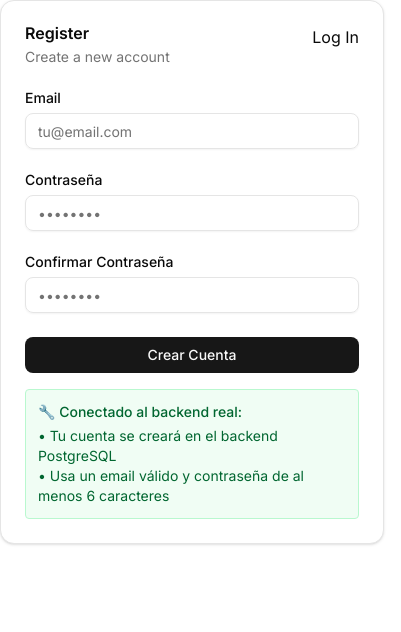
RegisterCard › shows validation error when passwords do not match
Type "test@example.com" into the field labelled "Email" at coordinates (192, 131), box [25,113,359,149]
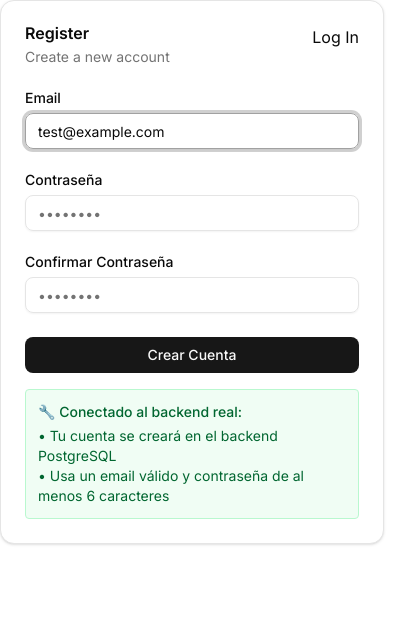
Type "password123" into the password field labelled "Contraseña" at coordinates (192, 213), box [25,195,359,231]
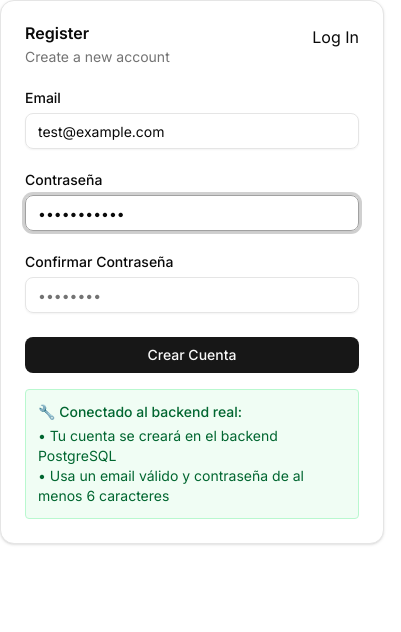
Type "different123" into the password field labelled "Confirmar Contraseña" at coordinates (192, 295), box [25,277,359,313]
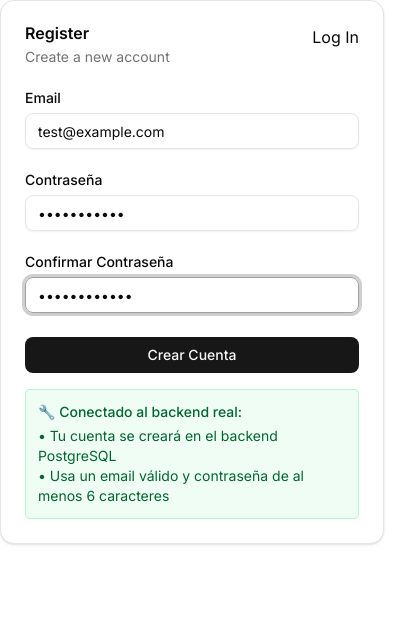
Click the button "Crear Cuenta" at coordinates (192, 355), box [25,337,359,373]
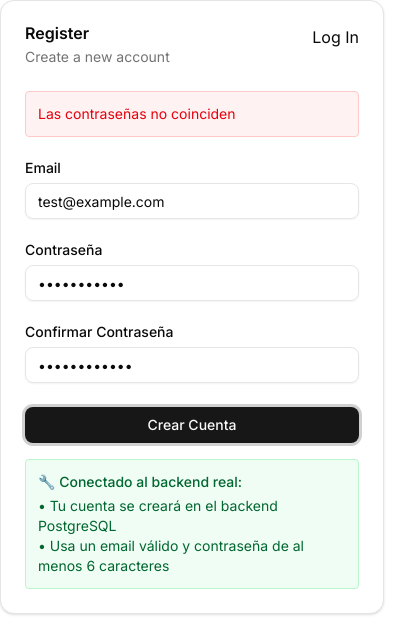
Expected: the text "Las contraseñas no coinciden" is shown, [25,91,359,137]
